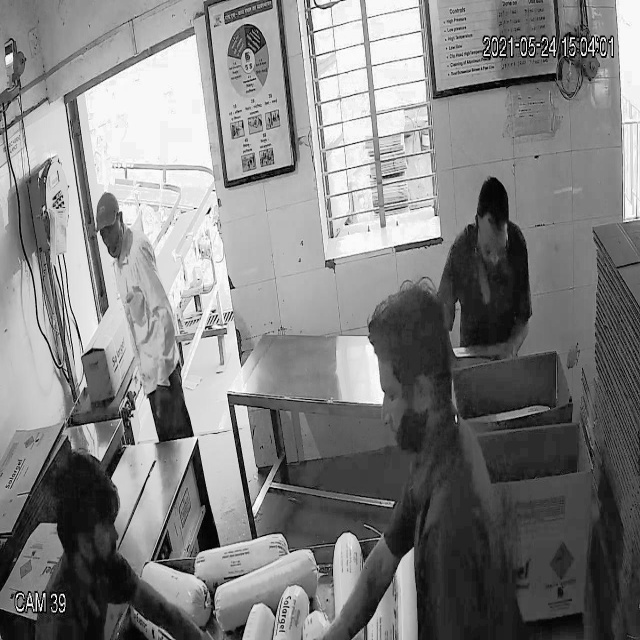Sin_gafas: (376, 369, 440, 415)
